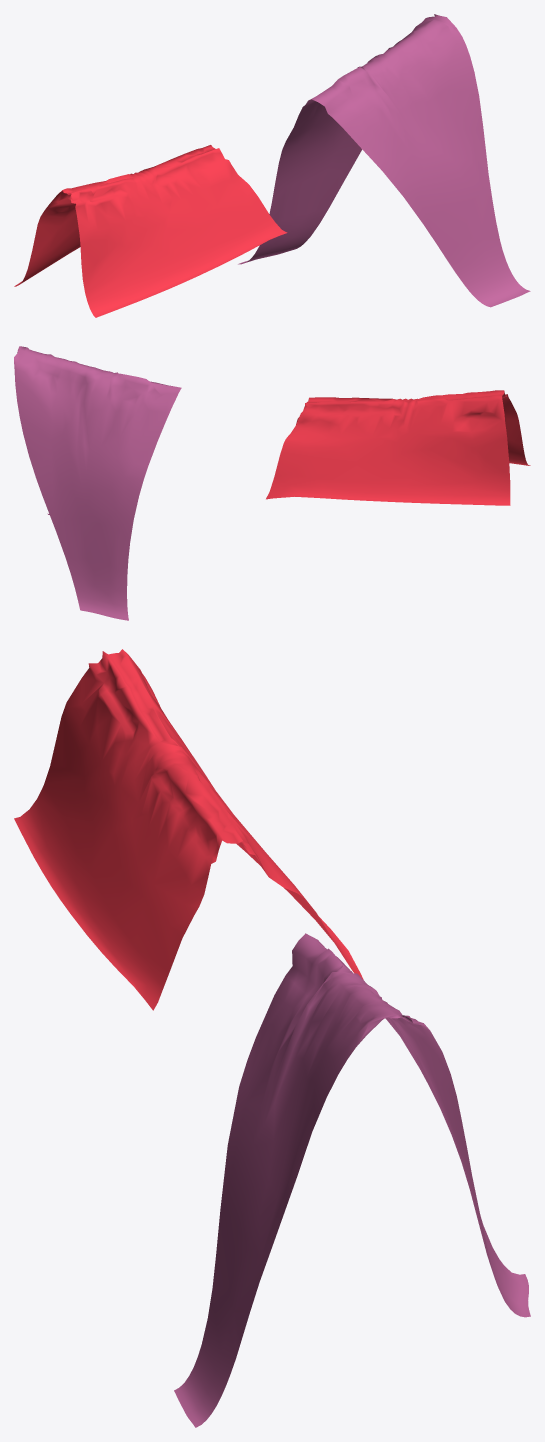
The model's file is Dress_1.fbx.
3 renders of one model, top to bottom at view 1: azimuth 30°, elevation 25°; view 2: azimuth 150°, elevation 25°; view 3: azimuth 270°, elevation 25°, orthographic. The views are drawn at different scales.
Visible parts, largest first — view 1: Dress_1; view 2: Dress_1; view 3: Dress_1.
Part boxes in pixels (x1=…): Dress_1: x1=14, y1=14, x2=530, y2=317; Dress_1: x1=14, y1=346, x2=530, y2=620; Dress_1: x1=14, y1=649, x2=530, y2=1427.
Size of the model in its own units: 131 by 57.23 by 68.94.
